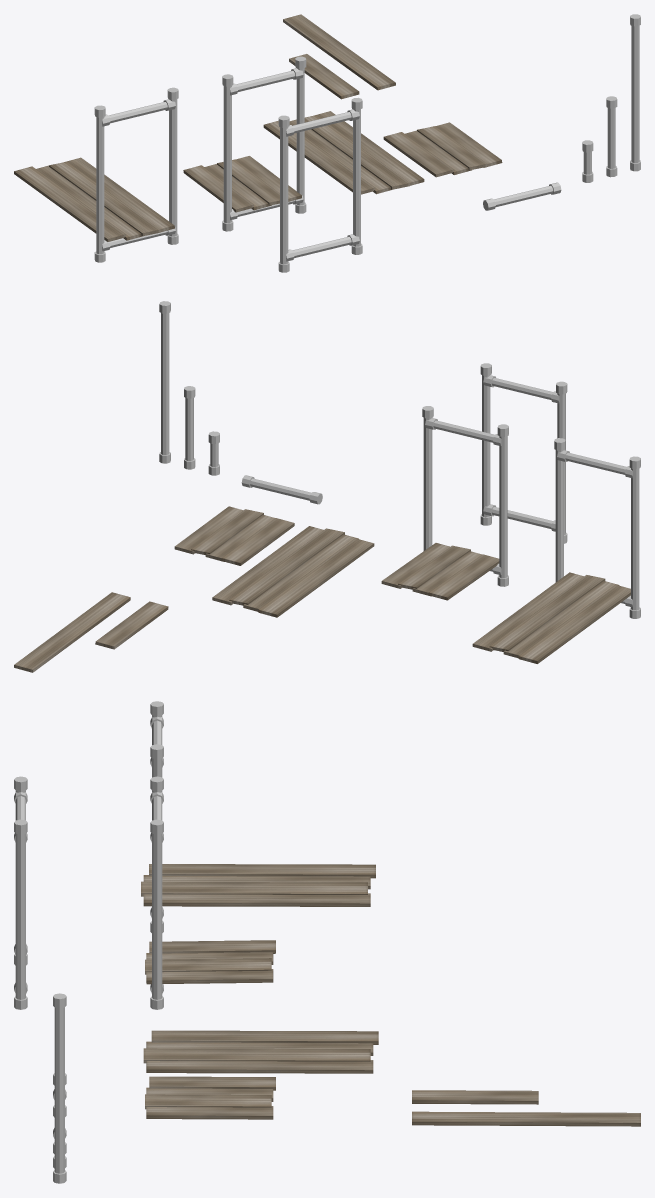
The model's file is Scaffolding.fbx.
3 renders of one model, top to bottom at view 1: azimuth 30°, elevation 25°; view 2: azimuth 150°, elevation 25°; view 3: azimuth 270°, elevation 25°, orthographic. The views are drawn at different scales.
Visible parts, largest first — view 1: SM_ScaffoldingPlankSet_Large, SM_ScaffoldingPlankSet_Medium, SM_WoodPlankSet_Large, SM_ScaffoldingBeam_Set, SM_WoodPlankSet_Medium, SM_WoodPlank_Large, SM_ScaffoldingBeam_Large, SM_WoodPlank_Medium, SM_ScaffoldingBeam_Medium, SM_ScaffoldingBeam_Horizontal, SM_ScaffoldingBeam_Small; view 2: SM_ScaffoldingPlankSet_Large, SM_ScaffoldingPlankSet_Medium, SM_WoodPlankSet_Large, SM_WoodPlankSet_Medium, SM_ScaffoldingBeam_Set, SM_WoodPlank_Large, SM_ScaffoldingBeam_Large, SM_WoodPlank_Medium, SM_ScaffoldingBeam_Medium, SM_ScaffoldingBeam_Horizontal; view 3: SM_ScaffoldingPlankSet_Large, SM_WoodPlankSet_Large, SM_ScaffoldingPlankSet_Medium, SM_WoodPlankSet_Medium, SM_WoodPlank_Large, SM_ScaffoldingBeam_Set, SM_ScaffoldingBeam_Large, SM_WoodPlank_Medium.
Boxes of the visible parts, bbox=[...] form: SM_ScaffoldingPlankSet_Large: bbox=[14, 87, 178, 262]; SM_ScaffoldingPlankSet_Medium: bbox=[183, 56, 306, 231]; SM_WoodPlankSet_Large: bbox=[263, 111, 424, 194]; SM_ScaffoldingBeam_Set: bbox=[278, 97, 362, 272]; SM_WoodPlankSet_Medium: bbox=[383, 122, 502, 177]; SM_WoodPlank_Large: bbox=[283, 14, 395, 90]; SM_ScaffoldingBeam_Large: bbox=[630, 14, 640, 171]; SM_WoodPlank_Medium: bbox=[289, 54, 359, 99]; SM_ScaffoldingBeam_Medium: bbox=[606, 96, 617, 177]; SM_ScaffoldingBeam_Horizontal: bbox=[483, 182, 561, 210]; SM_ScaffoldingBeam_Small: bbox=[582, 140, 593, 182]; SM_ScaffoldingPlankSet_Large: bbox=[472, 438, 640, 663]; SM_ScaffoldingPlankSet_Medium: bbox=[381, 406, 508, 600]; SM_WoodPlankSet_Large: bbox=[212, 526, 374, 617]; SM_WoodPlankSet_Medium: bbox=[174, 506, 294, 565]; SM_ScaffoldingBeam_Set: bbox=[480, 363, 567, 543]; SM_WoodPlank_Large: bbox=[14, 592, 130, 672]; SM_ScaffoldingBeam_Large: bbox=[159, 301, 170, 463]; SM_WoodPlank_Medium: bbox=[95, 601, 168, 649]; SM_ScaffoldingBeam_Medium: bbox=[184, 386, 195, 469]; SM_ScaffoldingBeam_Horizontal: bbox=[241, 475, 322, 504]; SM_ScaffoldingPlankSet_Large: bbox=[141, 701, 375, 932]; SM_WoodPlankSet_Large: bbox=[143, 1030, 378, 1073]; SM_ScaffoldingPlankSet_Medium: bbox=[145, 776, 275, 1009]; SM_WoodPlankSet_Medium: bbox=[145, 1076, 275, 1119]; SM_WoodPlank_Large: bbox=[412, 1111, 640, 1126]; SM_ScaffoldingBeam_Set: bbox=[14, 776, 27, 1009]; SM_ScaffoldingBeam_Large: bbox=[53, 993, 66, 1183]; SM_WoodPlank_Medium: bbox=[412, 1090, 538, 1104].
Bounding box in the file's own units: 1385 × 414 × 1231.
